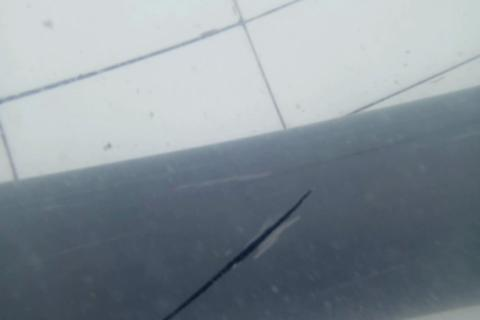keretakan: (164, 188, 310, 319)
